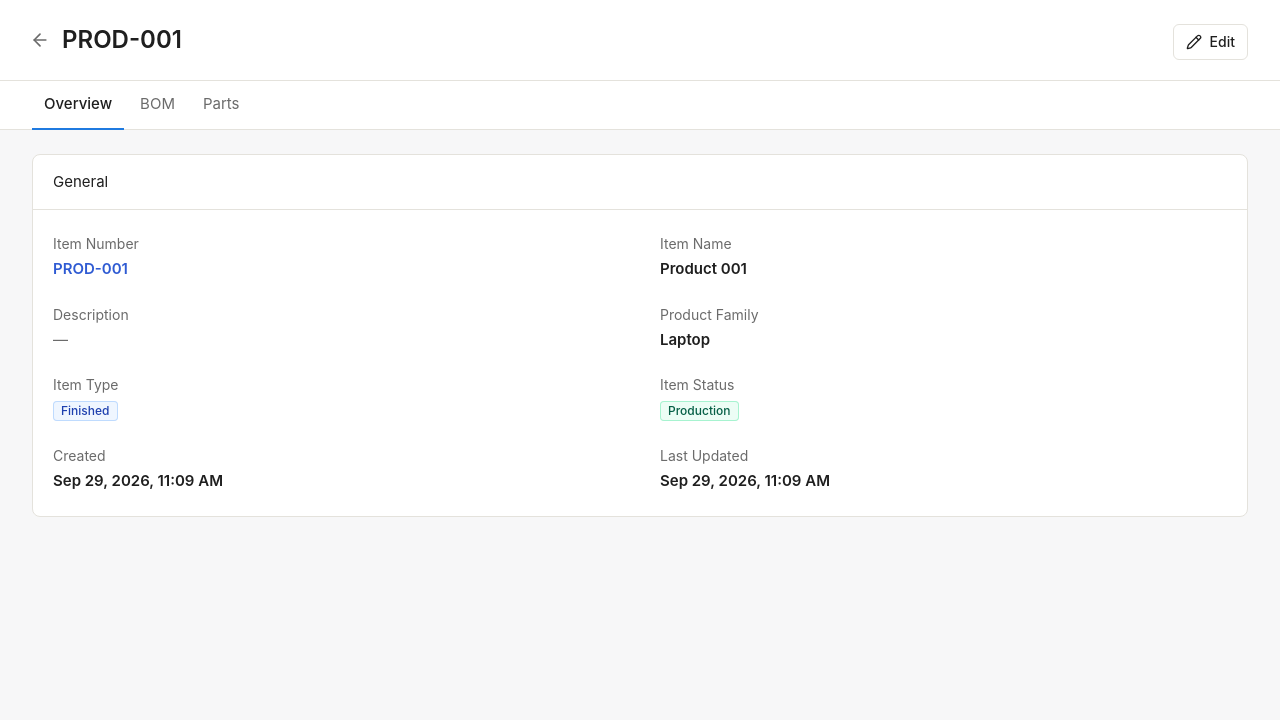
Test: ItemDetailPage › has Overview, BOM and Parts tabs; Parts lists the item parts and the tab is kept in ?tab=
This screenshot has width=1280, height=720.
Expected: the tab "BOM" is shown, top-left (128, 81), bottom-right (187, 130)
Click the tab "Parts".
click(221, 105)  # box top-left (191, 81), bottom-right (252, 130)
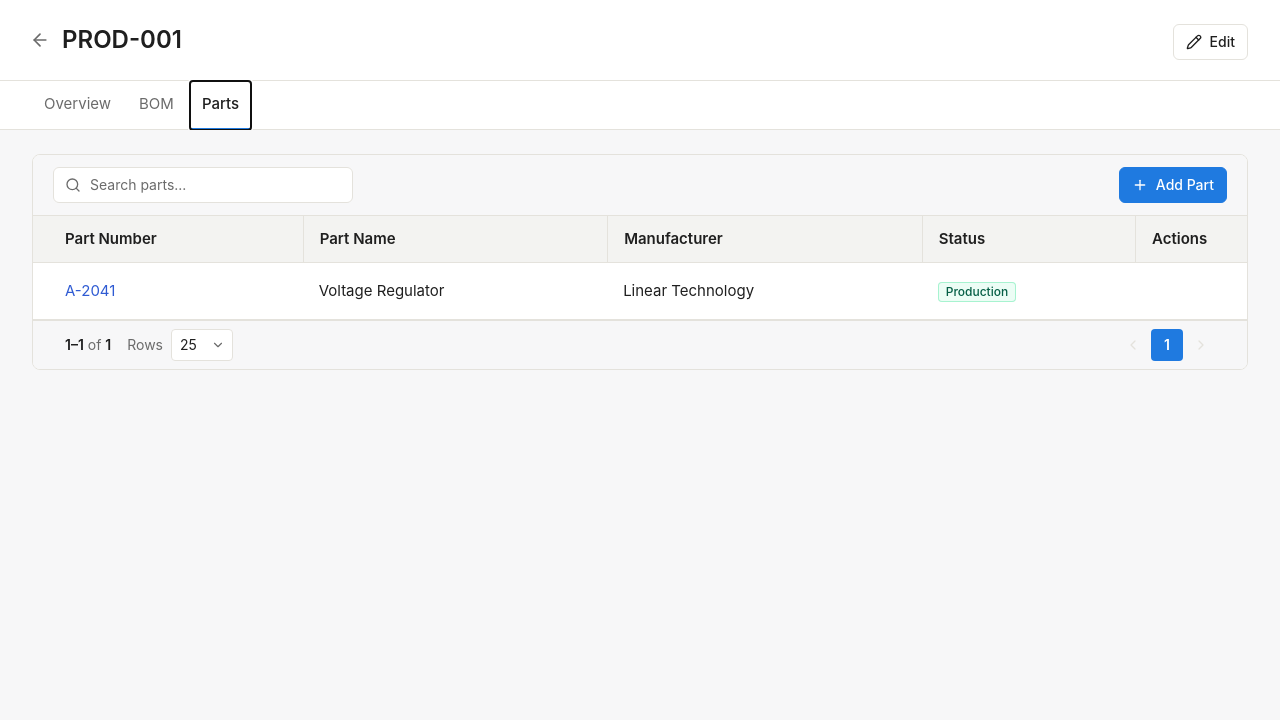
Expected: the heading "General" is gone
Expected: the button "Add Part" is shown, top-left (1119, 166), bottom-right (1227, 202)
